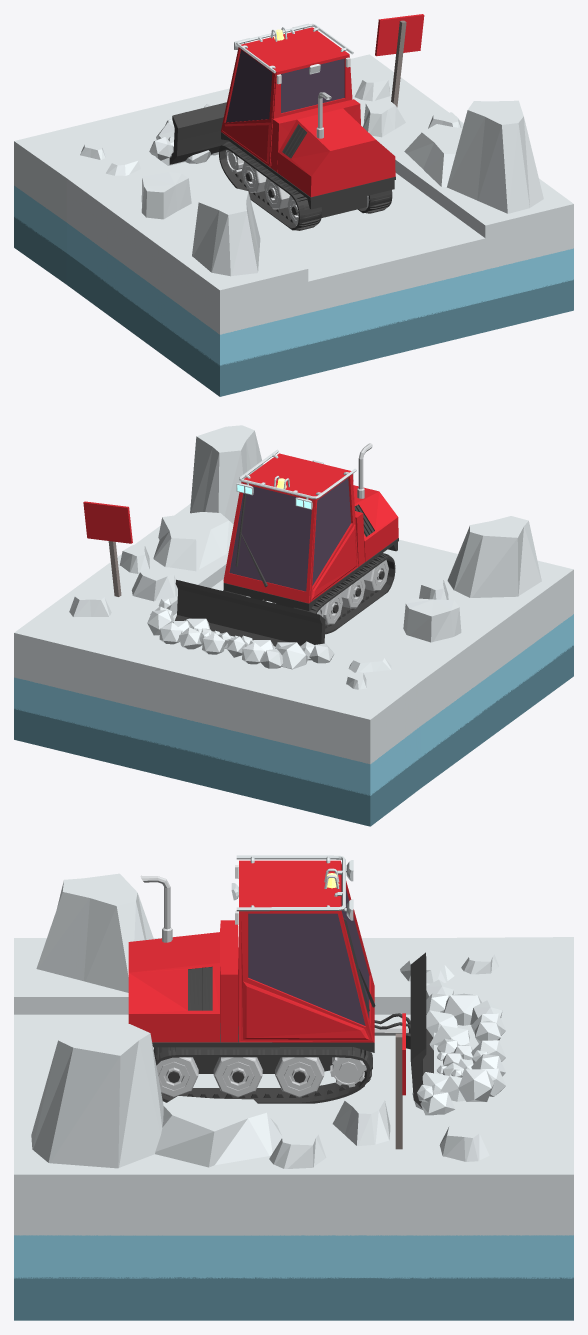
3 views of the same model, one above another, from view 1: azimuth 30°, elevation 25°; view 2: azimuth 150°, elevation 25°; view 3: azimuth 270°, elevation 25° (orthographic). The views are drawn at different scales.
Parts seen in each view (by area): view 1: Ground_1, Ground_2, Ground_2_2, Cabin, Ice_9, Ice_5, Windows, Tracks, Backet, Ice_1, Base, Ice_6 (+8 smaller); view 2: Ground_1, Ground_2, Ground_2_2, Windows, Cabin, Ice_5, Backet, Ice_9, Ice_1, Ice_6, Tracks, Cube_7 (+10 smaller); view 3: Ground_1, Ground_2, Ground_2_2, Cabin, Ice_9, Windows, Ice_5, Ice_1, Tracks, Backet, Ice, Base (+15 smaller).
Boxes of the visible parts, x1,y1,x2,y2 form: Ground_1: (14, 54, 573, 334); Ground_2: (14, 185, 573, 365); Ground_2_2: (14, 217, 573, 396); Cabin: (221, 27, 395, 197); Ice_9: (447, 100, 543, 213); Ice_5: (192, 188, 260, 276); Windows: (226, 50, 344, 122); Tracks: (219, 141, 392, 230); Backet: (169, 102, 229, 164); Ice_1: (404, 124, 462, 187); Base: (221, 132, 395, 217); Ice_6: (141, 172, 191, 219); Ground_1: (14, 504, 573, 764); Ground_2: (14, 614, 573, 795); Ground_2_2: (14, 645, 573, 826); Windows: (229, 478, 350, 591); Cabin: (223, 453, 398, 603); Ice_5: (447, 516, 541, 597); Backet: (175, 579, 325, 646); Ice_9: (190, 425, 263, 523); Ice_1: (153, 512, 233, 571); Ice_6: (403, 598, 461, 642); Tracks: (223, 553, 395, 634); Cube_7: (83, 501, 132, 543); Ground_1: (14, 937, 573, 1235); Ground_2: (14, 1235, 573, 1278); Ground_2_2: (14, 1277, 573, 1320); Cabin: (128, 860, 374, 1042); Ice_9: (31, 1024, 163, 1168); Windows: (248, 875, 369, 1025); Ice_5: (36, 873, 153, 992); Ice_1: (155, 1096, 282, 1167); Tracks: (153, 1047, 372, 1103); Backet: (406, 952, 433, 1107); Ice: (332, 1095, 390, 1145); Base: (152, 1023, 374, 1073).
Size of the model in its own units: 8410 by 5428 by 8376.
